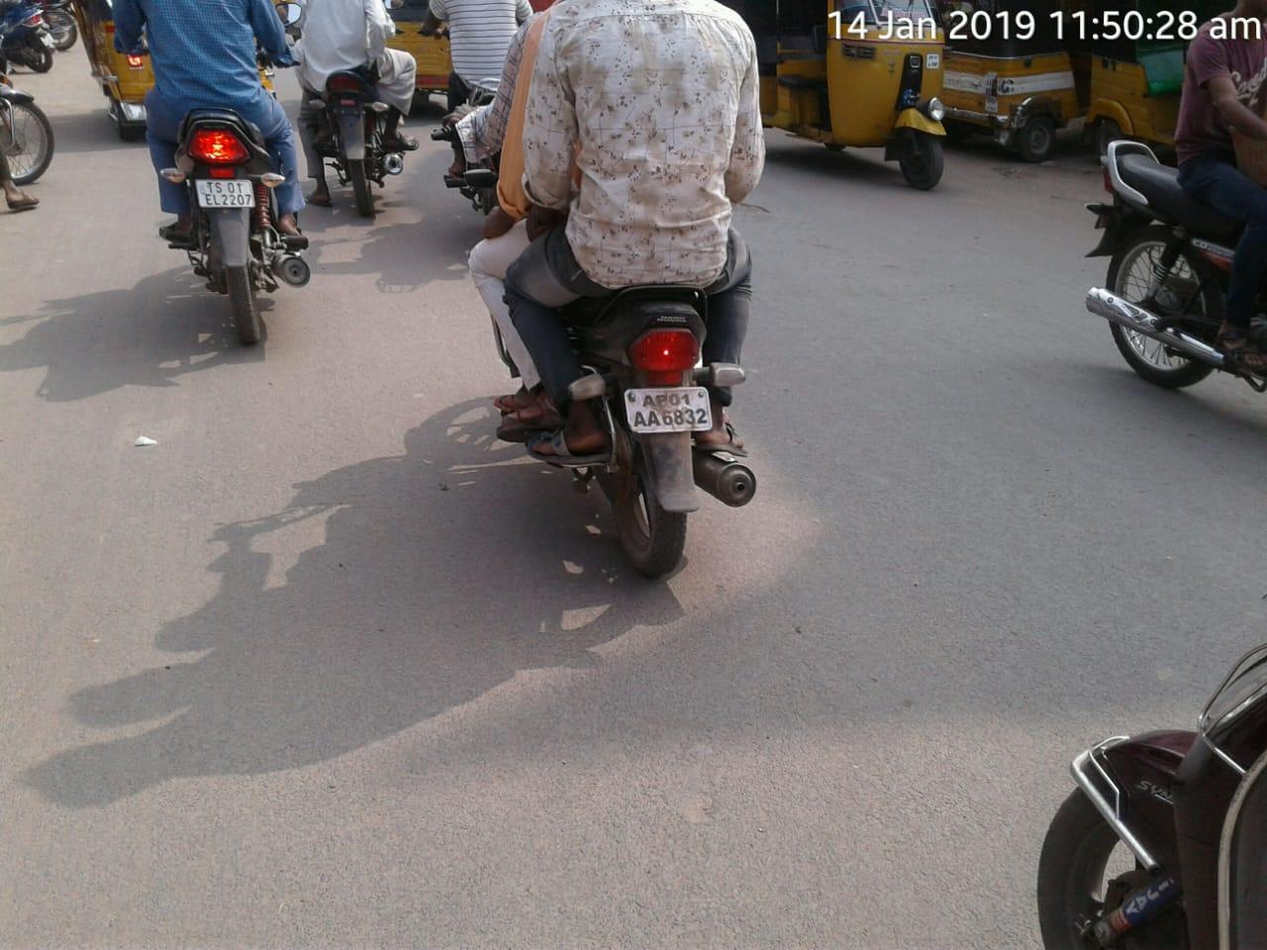plate: (614, 383, 728, 435), (195, 174, 263, 213)
